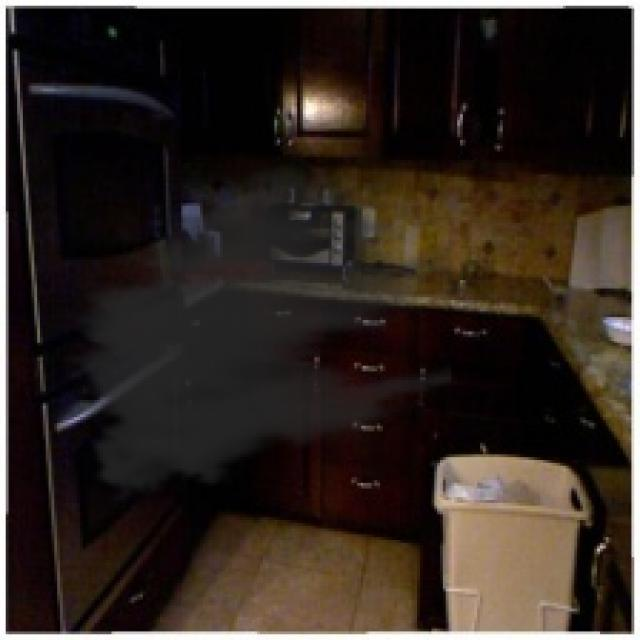Smoke: (57, 154, 452, 512)
